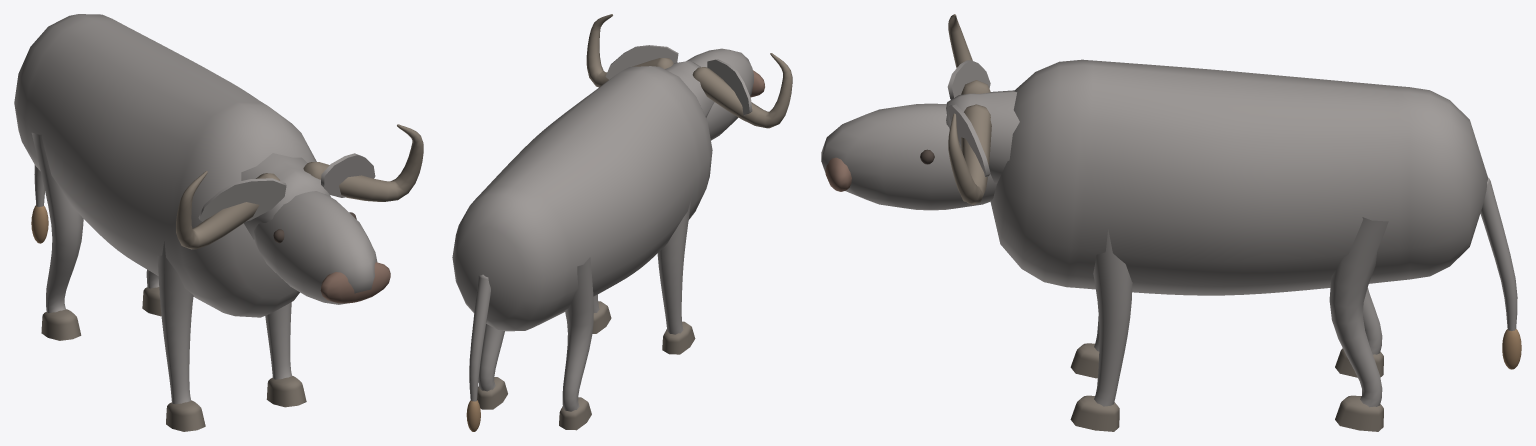
File: savanna-wildlife-cape-buffalo-b920bae8__6539.glb
The picture shows the model from 3 angles, left to right: view 1: azimuth 30°, elevation 25°; view 2: azimuth 150°, elevation 25°; view 3: azimuth 270°, elevation 25°; orthographic projection. The views are drawn at different scales.
Visible parts, largest first — view 1: cape-buffalo; view 2: cape-buffalo; view 3: cape-buffalo.
Boxes of the visible parts, x1,y1,x2,y2 form: cape-buffalo: [14, 14, 423, 431]; cape-buffalo: [452, 14, 792, 431]; cape-buffalo: [821, 14, 1521, 431].
Size of the model in its own units: 1.65 by 2.05 by 3.86.
